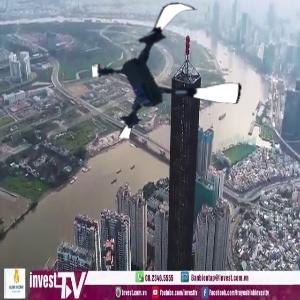drone: (94, 2, 243, 151)
